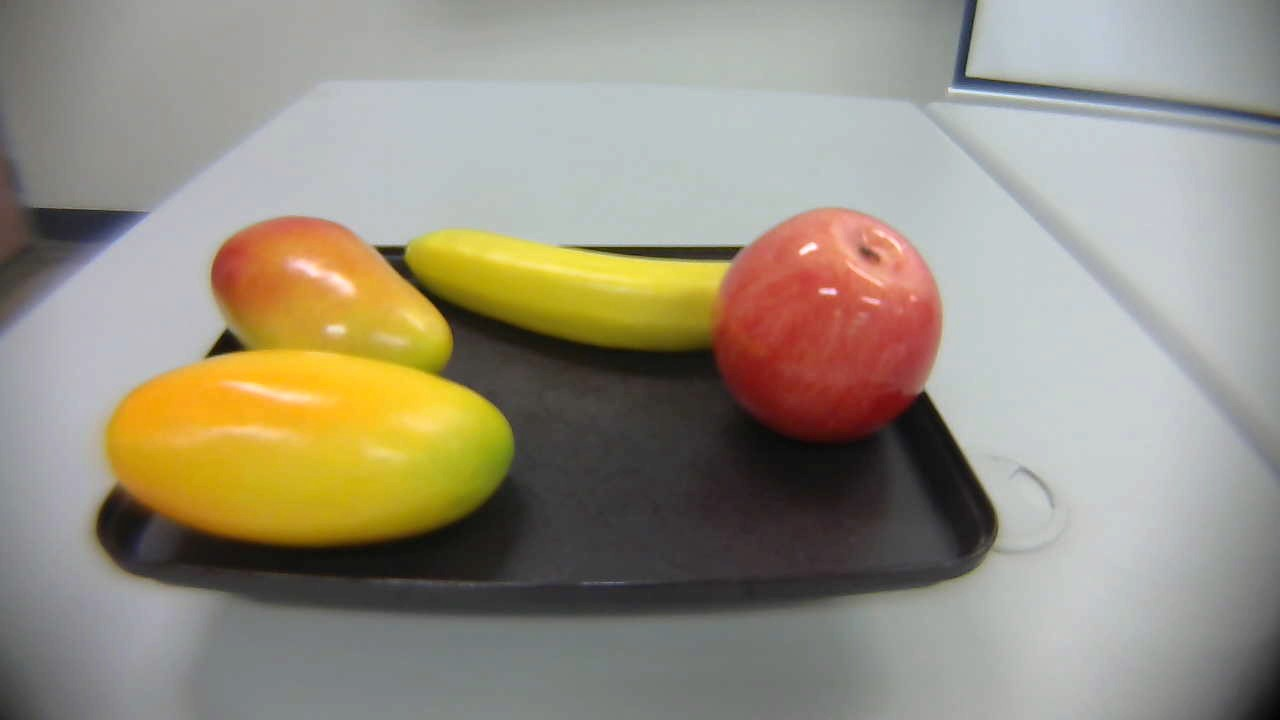banana: (390, 213, 752, 371)
red apple: (703, 206, 953, 458)
red mango: (203, 211, 467, 399)
yellow mango: (87, 341, 518, 558)
